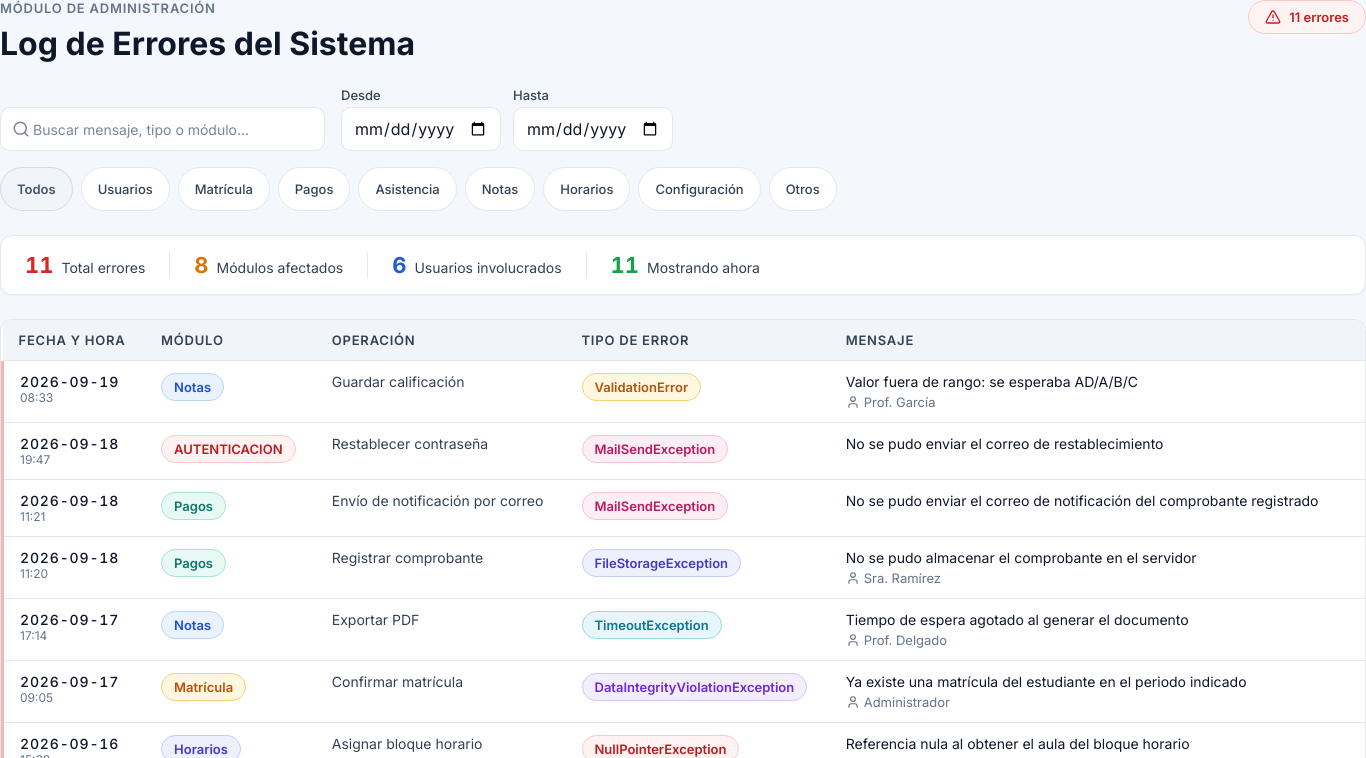
Test: HU-SAT-06 · Mensaje exacto cuando ningún error cumple los filtros › muestra el texto exacto "No se ha registrado ningún error que corresponda con los criterios indicados"
This screenshot has width=1366, height=758.
Click the button "Usuarios" at [125, 189], box 81,167 -> 170,211
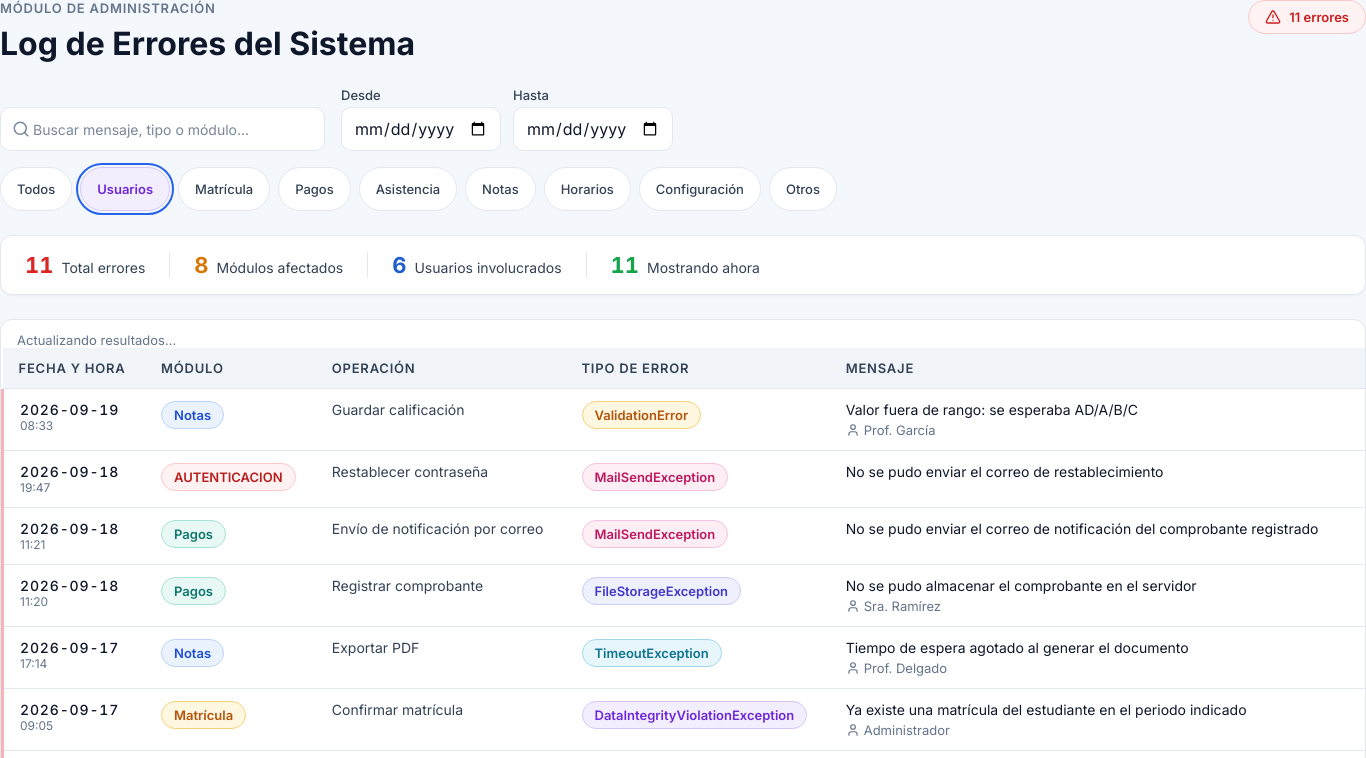
Type "2026-01-01" into the date field labelled "Desde" at [421, 129], box 341,107 -> 501,151
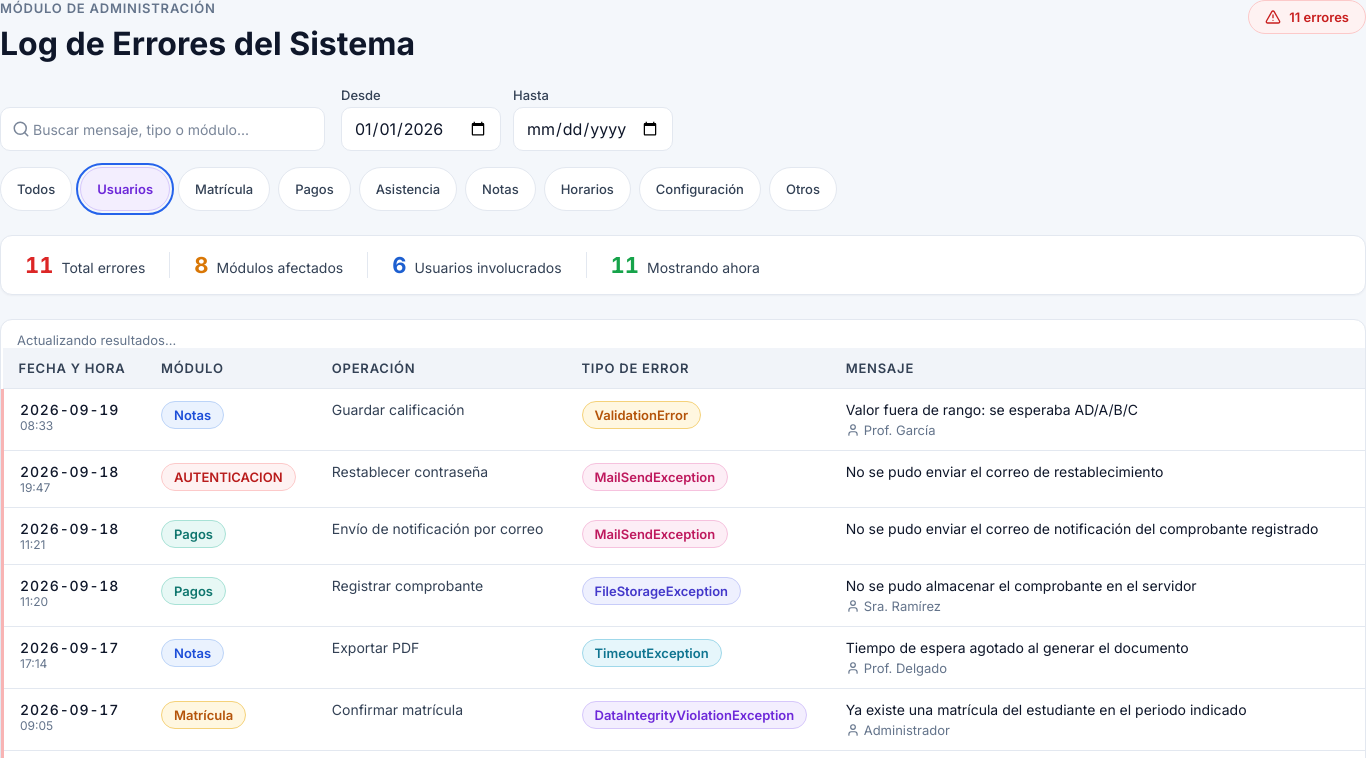
Type "2026-01-02" into the date field labelled "Hasta" at [593, 129], box 513,107 -> 673,151
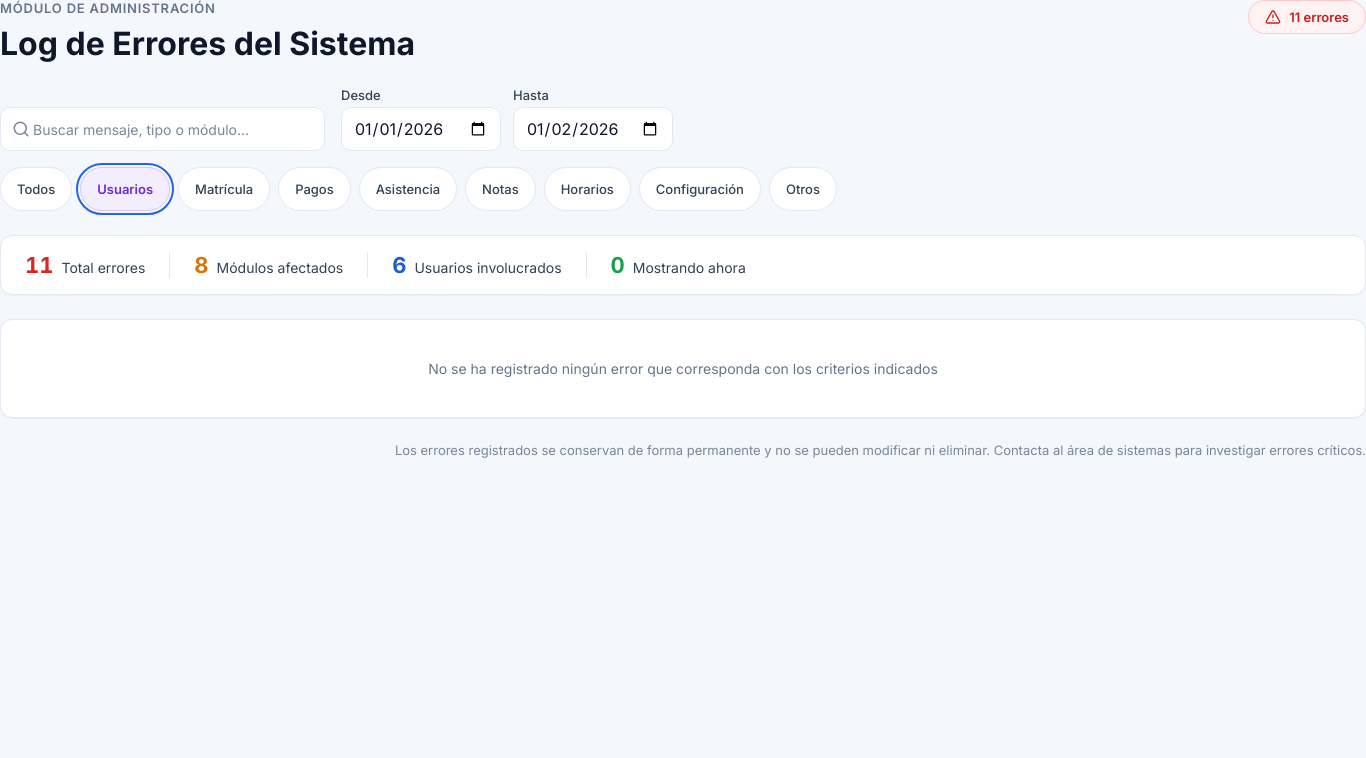
Expected: the text "No se ha registrado ningún error que corresponda con los criterios indicados" is shown, 428,360 -> 938,377
